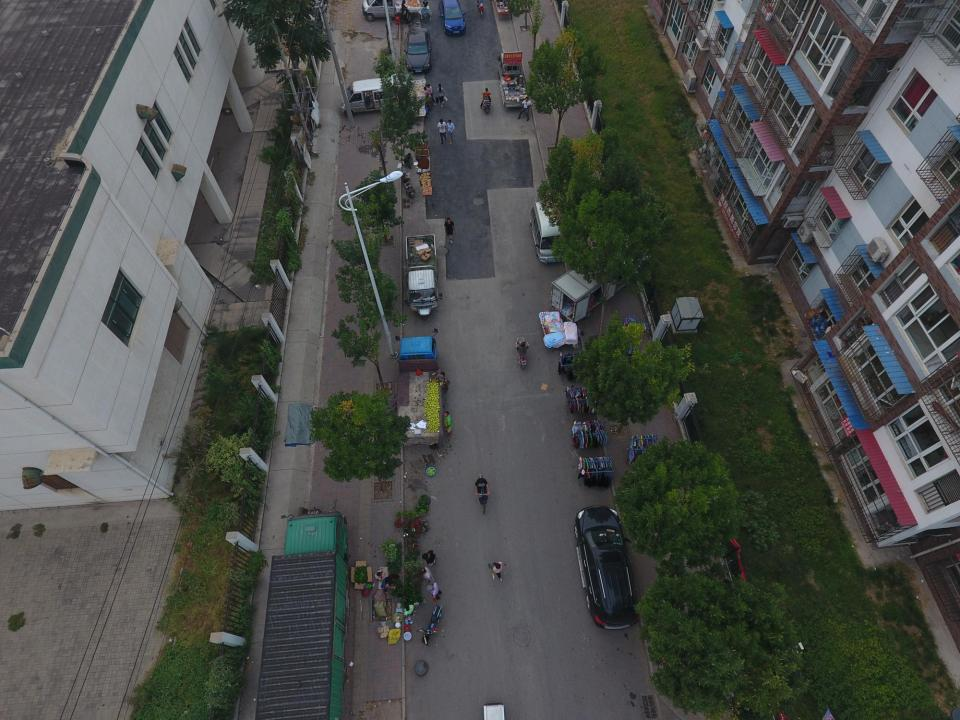car: (574, 506, 642, 629), (403, 28, 433, 72), (439, 0, 466, 35)
truck: (255, 498, 346, 720), (395, 328, 445, 444), (550, 258, 630, 323), (404, 234, 443, 316), (497, 51, 529, 107), (361, 0, 421, 22)
van: (339, 74, 410, 118), (529, 201, 564, 264)
